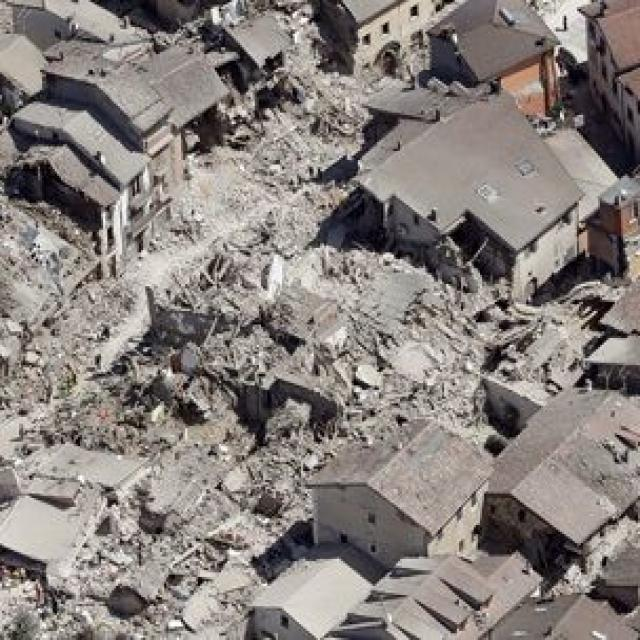collapsed_building: (131, 230, 440, 444), (181, 0, 352, 158), (474, 262, 638, 404)
